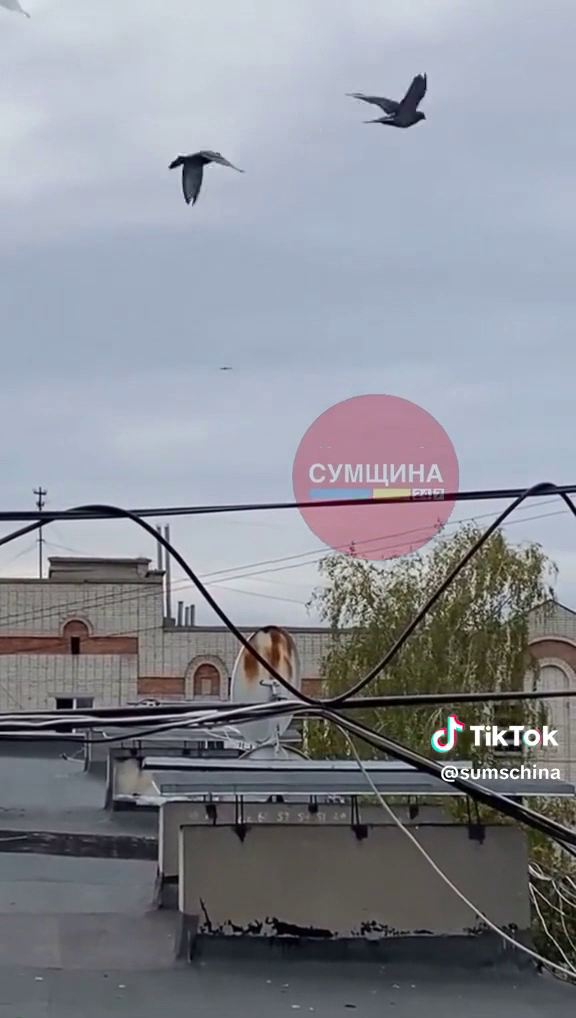not_drone: (334, 47, 455, 151)
